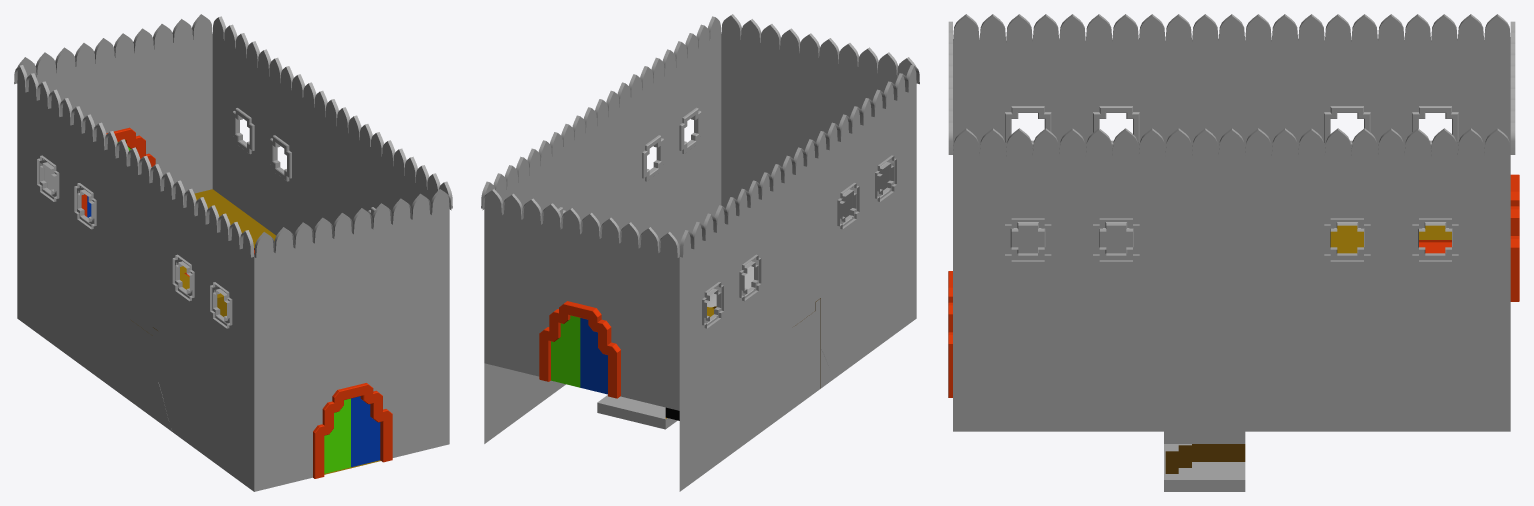
Rendered from Tutorial FBX.fbx.
The picture shows the model from 3 angles, left to right: view 1: azimuth 30°, elevation 25°; view 2: azimuth 150°, elevation 25°; view 3: azimuth 270°, elevation 25°; orthographic projection. The views are drawn at different scales.
Parts seen in each view (by area): view 1: polySurface43, pCube11, polySurface21, pCube9, pPlane56, polySurface2, polySurface4, pCube1, polySurface3, porta_pCube4, polySurface7, polySurface15 (+4 smaller); view 2: polySurface43, polySurface21, pCube9, pCube11, pPlane56, porta_pCube4, porta_pCube5, porta_pCube6, pCube13, polySurface6, polySurface20, polySurface17 (+3 smaller); view 3: polySurface21, polySurface43, pCube13, pCube1, pCube6, porta_pCube4, pCube10, polySurface6, polySurface9, polySurface12, polySurface7, polySurface14 (+26 smaller).
Boxes of the visible parts, x1=… form: polySurface43: x1=17, y1=83, x2=254, y2=491; pCube11: x1=254, y1=209, x2=449, y2=491; polySurface21: x1=212, y1=36, x2=432, y2=235; pCube9: x1=37, y1=36, x2=212, y2=193; pPlane56: x1=254, y1=189, x2=451, y2=257; polySurface2: x1=313, y1=383, x2=392, y2=478; polySurface4: x1=351, y1=396, x2=380, y2=467; pCube1: x1=180, y1=189, x2=380, y2=474; polySurface3: x1=324, y1=398, x2=350, y2=473; porta_pCube4: x1=81, y1=127, x2=155, y2=216; polySurface7: x1=232, y1=108, x2=254, y2=154; polySurface15: x1=37, y1=155, x2=59, y2=201; polySurface43: x1=679, y1=83, x2=916, y2=491; polySurface21: x1=484, y1=36, x2=721, y2=443; pCube9: x1=484, y1=209, x2=679, y2=410; pCube11: x1=721, y1=36, x2=896, y2=217; pPlane56: x1=721, y1=14, x2=916, y2=78; porta_pCube4: x1=539, y1=301, x2=620, y2=398; porta_pCube5: x1=551, y1=315, x2=580, y2=387; porta_pCube6: x1=580, y1=318, x2=607, y2=394; pCube13: x1=597, y1=395, x2=677, y2=429; polySurface6: x1=679, y1=107, x2=701, y2=153; polySurface20: x1=837, y1=183, x2=859, y2=229; polySurface17: x1=739, y1=254, x2=761, y2=301; polySurface21: x1=953, y1=155, x2=1510, y2=431; polySurface43: x1=953, y1=42, x2=1510, y2=253; pCube13: x1=1164, y1=444, x2=1245, y2=491; pCube1: x1=1330, y1=225, x2=1451, y2=253; pCube6: x1=1165, y1=444, x2=1245, y2=473; porta_pCube4: x1=1510, y1=174, x2=1519, y2=301; pCube10: x1=1164, y1=431, x2=1245, y2=443; polySurface6: x1=1005, y1=218, x2=1051, y2=261; polySurface9: x1=1324, y1=218, x2=1370, y2=261; polySurface12: x1=1093, y1=218, x2=1139, y2=261; polySurface7: x1=1412, y1=218, x2=1458, y2=261; polySurface14: x1=1005, y1=106, x2=1051, y2=148.
Size of the model in its own units: 20.68 by 30.23 by 43.04.
